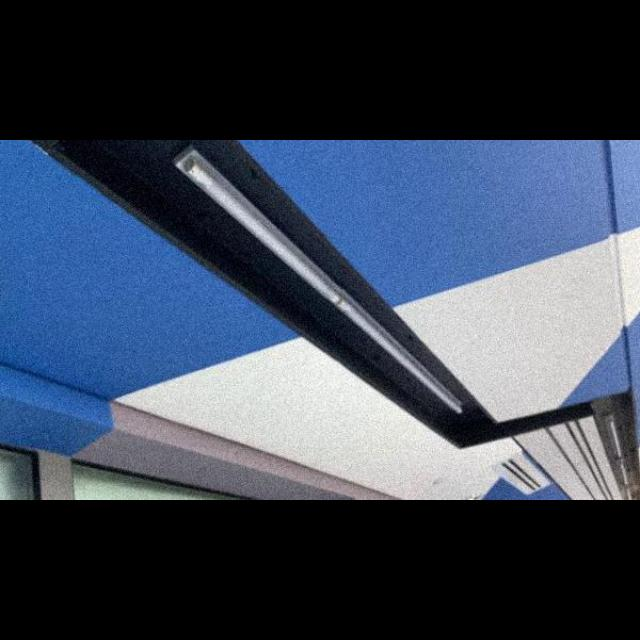Straight-Tube-Fluorescent-Lamp: (160, 144, 472, 430)
